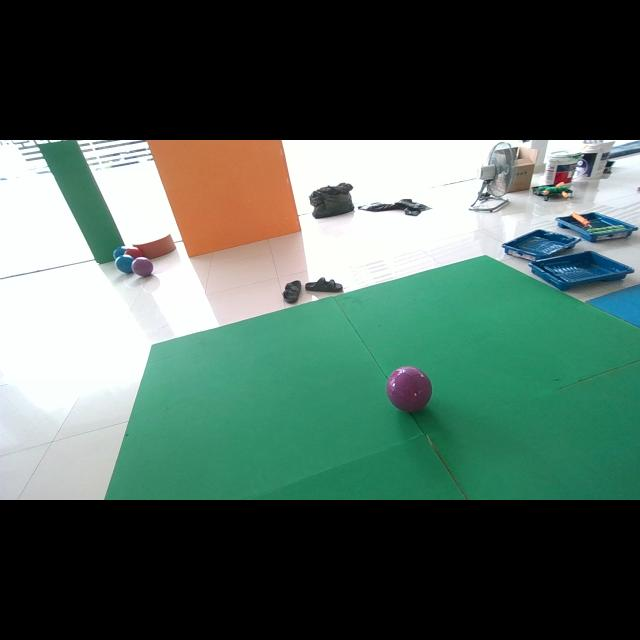B: (115, 254, 134, 273), (112, 246, 126, 259)
P: (386, 366, 431, 412), (131, 256, 154, 276)
R: (124, 248, 142, 258)
